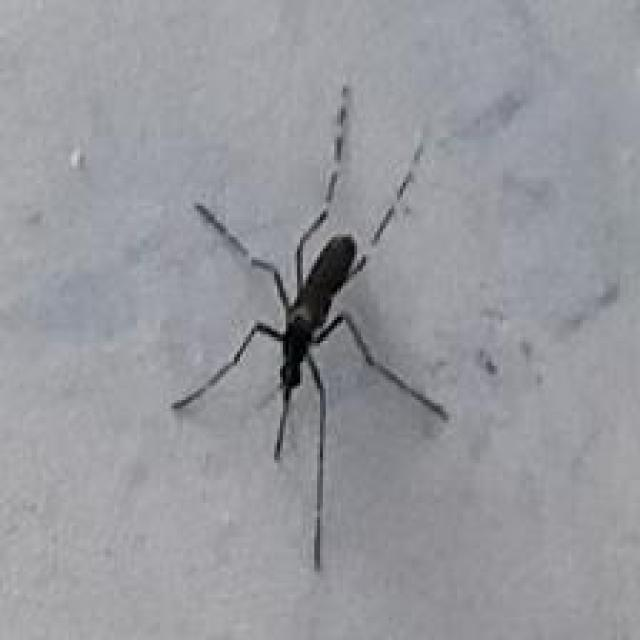Aedes albopictus: (168, 83, 452, 571)
